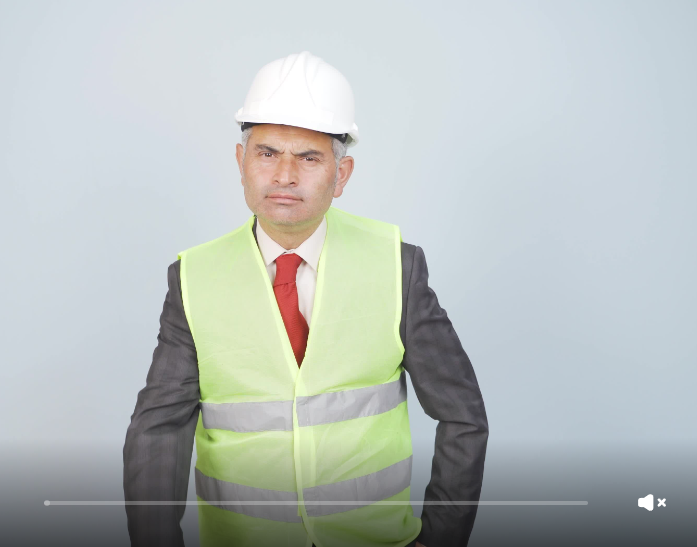safety_helmet: (234, 50, 359, 146)
